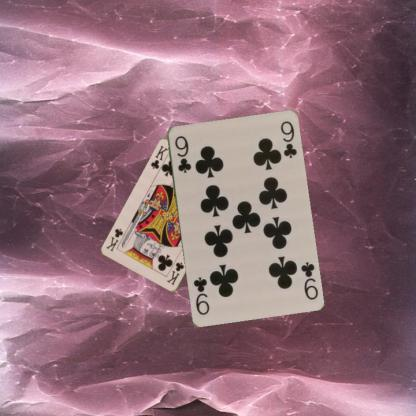9c: (297, 259, 319, 301), (172, 133, 192, 174)
Kc: (164, 260, 186, 287), (148, 144, 170, 170)
